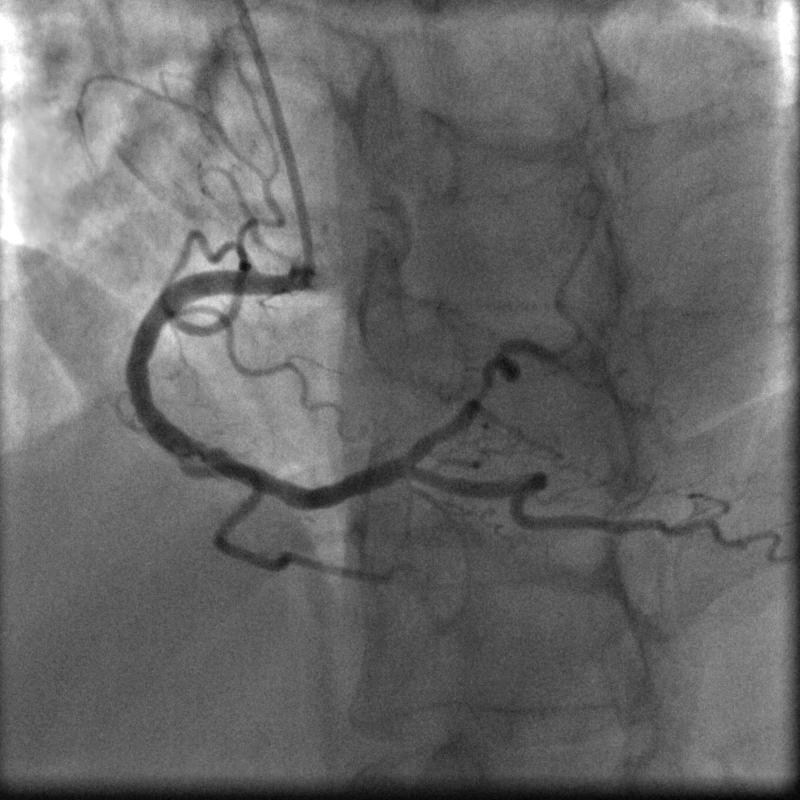Stenosis: (455, 366, 494, 408)
